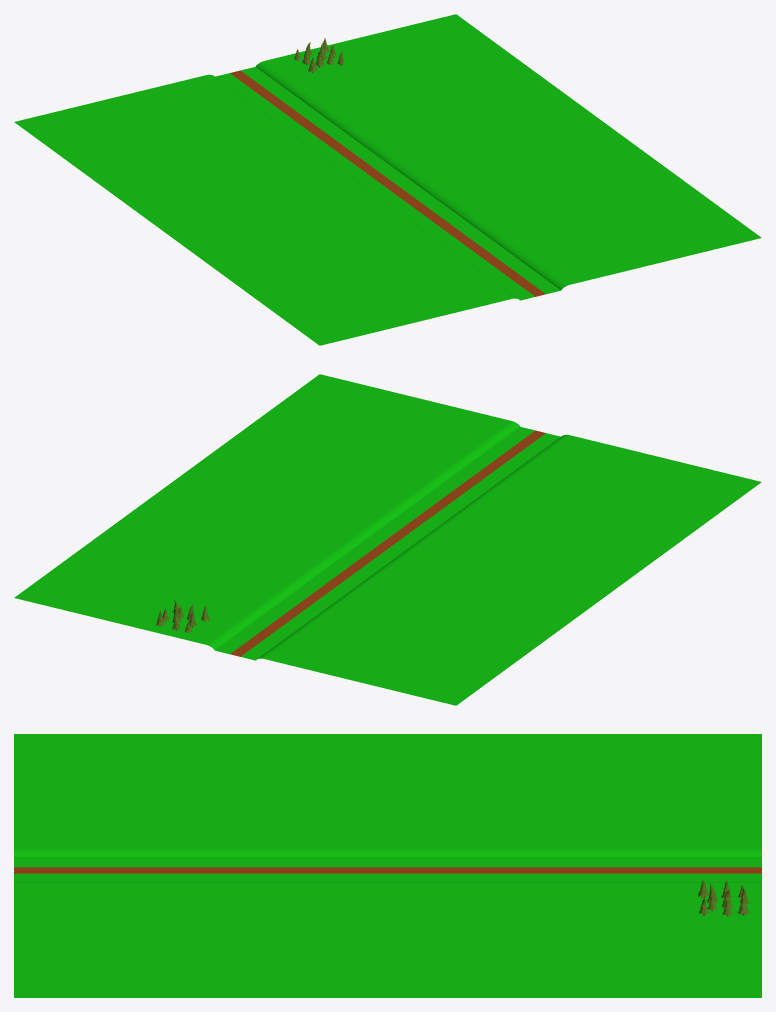
The model's file is terra2.glb.
3 renders of one model, top to bottom at view 1: azimuth 30°, elevation 25°; view 2: azimuth 150°, elevation 25°; view 3: azimuth 270°, elevation 25°, orthographic. The views are drawn at different scales.
Visible parts, largest first — view 1: bosc.E.001, herba.E.002, terra.003, Resource_PineTree_Group; view 2: bosc.E.001, herba.E.002, terra.003, Resource_PineTree_Group; view 3: bosc.E.001, herba.E.002, terra.003, Resource_PineTree_Group.
Part boxes in pixels (x1=…): bosc.E.001: x1=14, y1=14, x2=761, y2=345; herba.E.002: x1=215, y1=67, x2=560, y2=300; terra.003: x1=230, y1=70, x2=545, y2=296; Resource_PineTree_Group: x1=294, y1=38, x2=344, y2=72; bosc.E.001: x1=14, y1=374, x2=761, y2=705; herba.E.002: x1=215, y1=427, x2=560, y2=660; terra.003: x1=230, y1=430, x2=545, y2=656; Resource_PineTree_Group: x1=156, y1=600, x2=209, y2=632; bosc.E.001: x1=14, y1=734, x2=761, y2=997; herba.E.002: x1=14, y1=858, x2=761, y2=881; terra.003: x1=14, y1=867, x2=761, y2=873; Resource_PineTree_Group: x1=698, y1=878, x2=749, y2=916.
Size of the model in its own units: 250 by 11.41 by 300.
